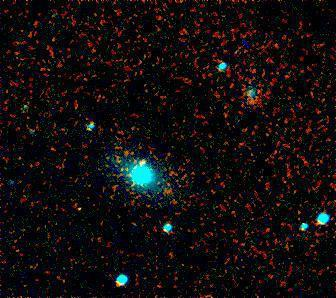star: (126, 148, 156, 178)
